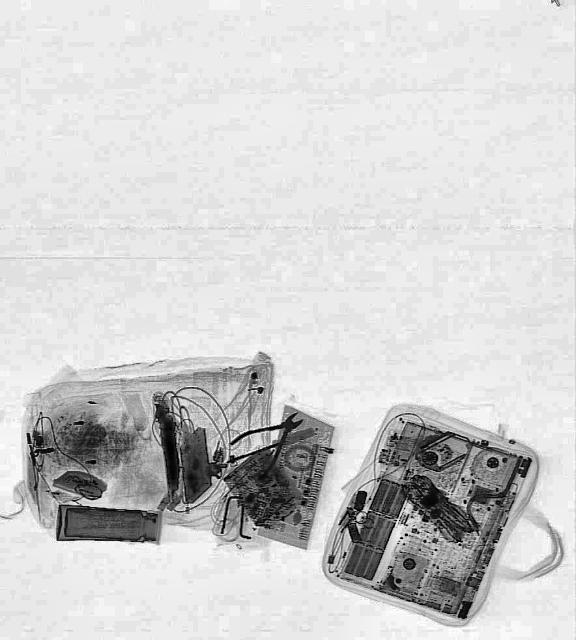Pliers: (227, 398, 317, 482)
